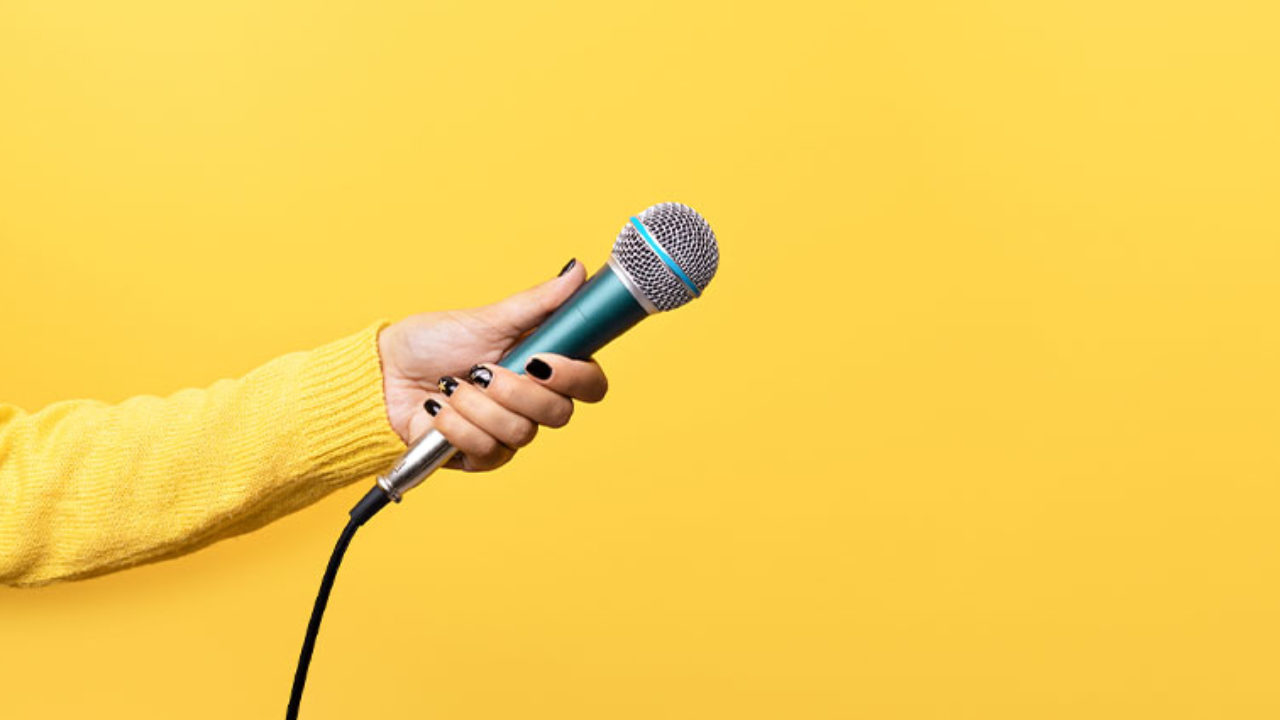microphone: (347, 199, 723, 527)
